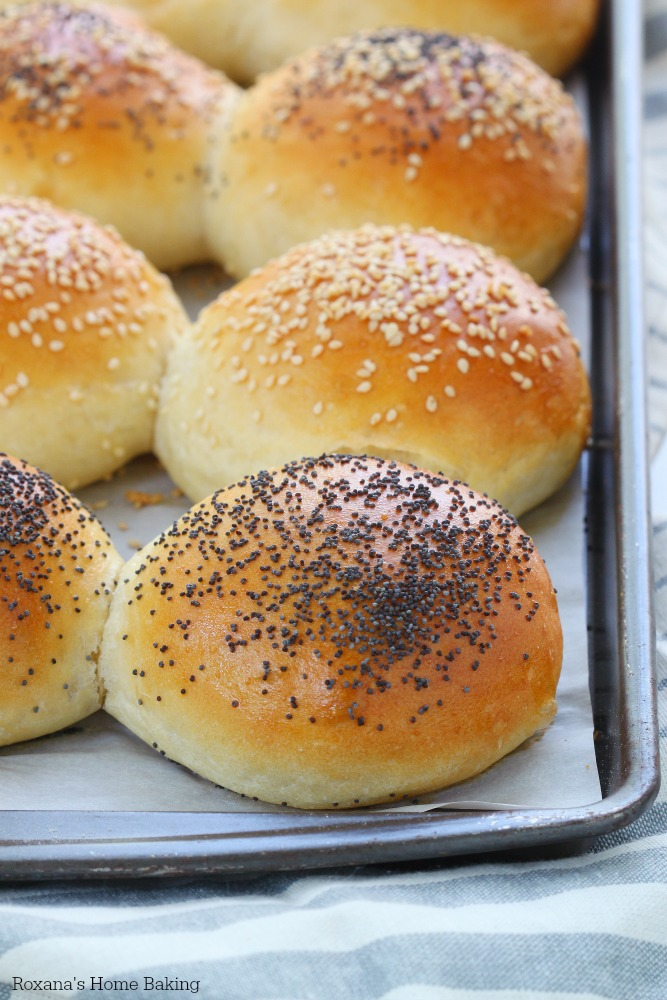hamburger_buns: (92, 450, 600, 814), (167, 253, 609, 518), (214, 54, 612, 272)
